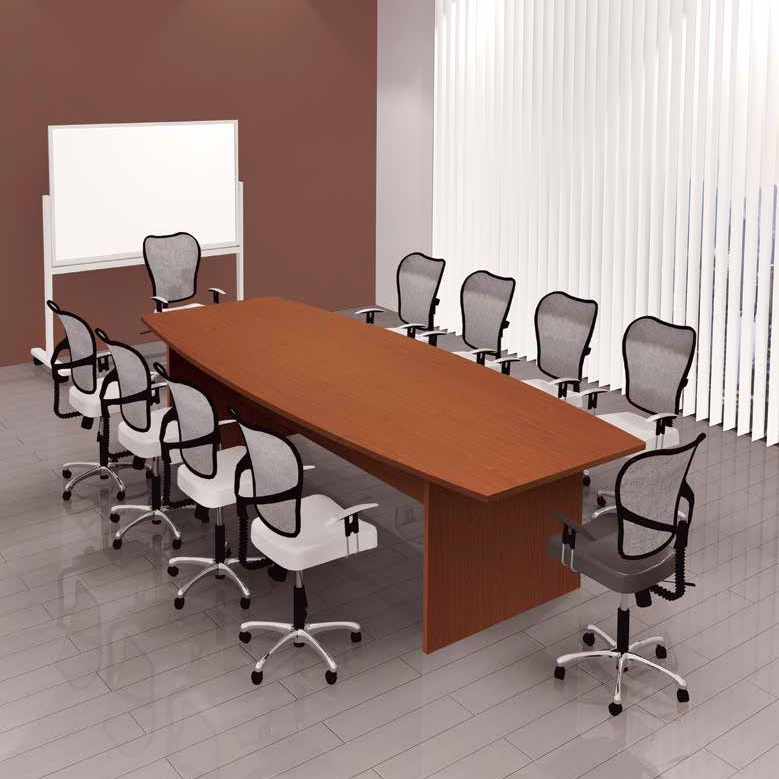conference_table: (140, 297, 645, 653)
